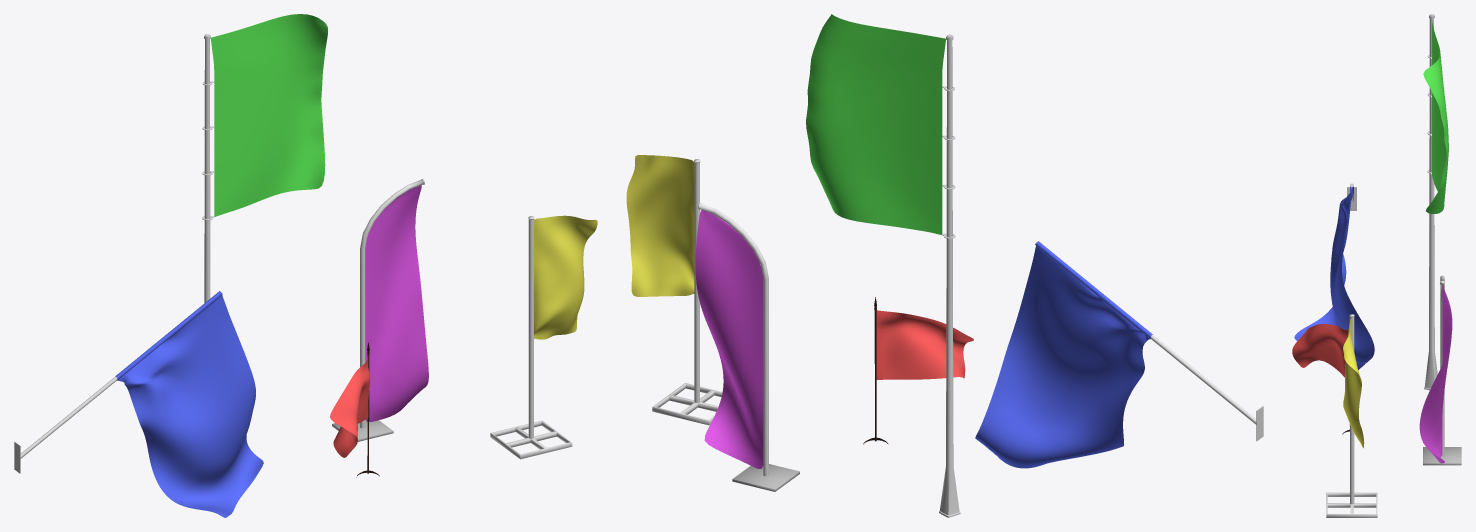
Rendered from pack_of_5_colored_flags.glb.
3 renders of one model, left to right at view 1: azimuth 30°, elevation 25°; view 2: azimuth 150°, elevation 25°; view 3: azimuth 270°, elevation 25°, orthographic. The views are drawn at different scales.
Visible parts, largest first — view 1: flag4cloth_10, flag1cloth_5, flag3cloth_1, flag2cloth_7, flag5_12, flag4carcas_9, flag2_6, flag3_0, carcas2_8, carcas1_3, flag1_4; view 2: flag4cloth_10, flag1cloth_5, flag3cloth_1, flag2cloth_7, flag5_12, flag4carcas_9, flag3_0, flag2_6, carcas2_8, flag3carcas_2, carcas1_3, flag1_4; view 3: flag1cloth_5, flag4cloth_10, flag3cloth_1, flag5_12, flag4carcas_9, flag2cloth_7, carcas2_8, flag3carcas_2, flag2_6, flag3_0.
Part boxes in pixels (bbox=[...]): flag4cloth_10: bbox=[210, 14, 327, 216]; flag1cloth_5: bbox=[117, 295, 263, 517]; flag3cloth_1: bbox=[365, 185, 428, 421]; flag2cloth_7: bbox=[534, 215, 597, 339]; flag5_12: bbox=[330, 355, 370, 457]; flag4carcas_9: bbox=[202, 34, 214, 302]; flag2_6: bbox=[528, 216, 534, 438]; flag3_0: bbox=[360, 179, 424, 428]; carcas2_8: bbox=[490, 420, 572, 459]; carcas1_3: bbox=[14, 291, 222, 473]; flag1_4: bbox=[115, 291, 222, 379]; flag4cloth_10: bbox=[806, 14, 945, 234]; flag1cloth_5: bbox=[975, 246, 1150, 468]; flag3cloth_1: bbox=[695, 210, 763, 468]; flag2cloth_7: bbox=[626, 155, 694, 296]; flag5_12: bbox=[876, 310, 973, 379]; flag4carcas_9: bbox=[939, 34, 960, 517]; flag3_0: bbox=[698, 203, 768, 476]; flag2_6: bbox=[694, 159, 700, 402]; carcas2_8: bbox=[652, 383, 722, 425]; flag3carcas_2: bbox=[732, 464, 799, 491]; carcas1_3: bbox=[1035, 241, 1263, 441]; flag1_4: bbox=[1035, 241, 1152, 338]; flag1cloth_5: bbox=[1294, 187, 1374, 369]; flag4cloth_10: bbox=[1423, 21, 1448, 213]; flag3cloth_1: bbox=[1419, 285, 1452, 463]; flag5_12: bbox=[1292, 324, 1348, 377]; flag4carcas_9: bbox=[1424, 14, 1437, 390]; flag2cloth_7: bbox=[1343, 318, 1364, 448]; carcas2_8: bbox=[1326, 492, 1377, 517]; flag3carcas_2: bbox=[1423, 447, 1461, 465]; flag2_6: bbox=[1349, 314, 1354, 504]; flag3_0: bbox=[1440, 275, 1444, 455].
Bounding box in the file's own units: 12.03 × 8.79 × 3.59.
